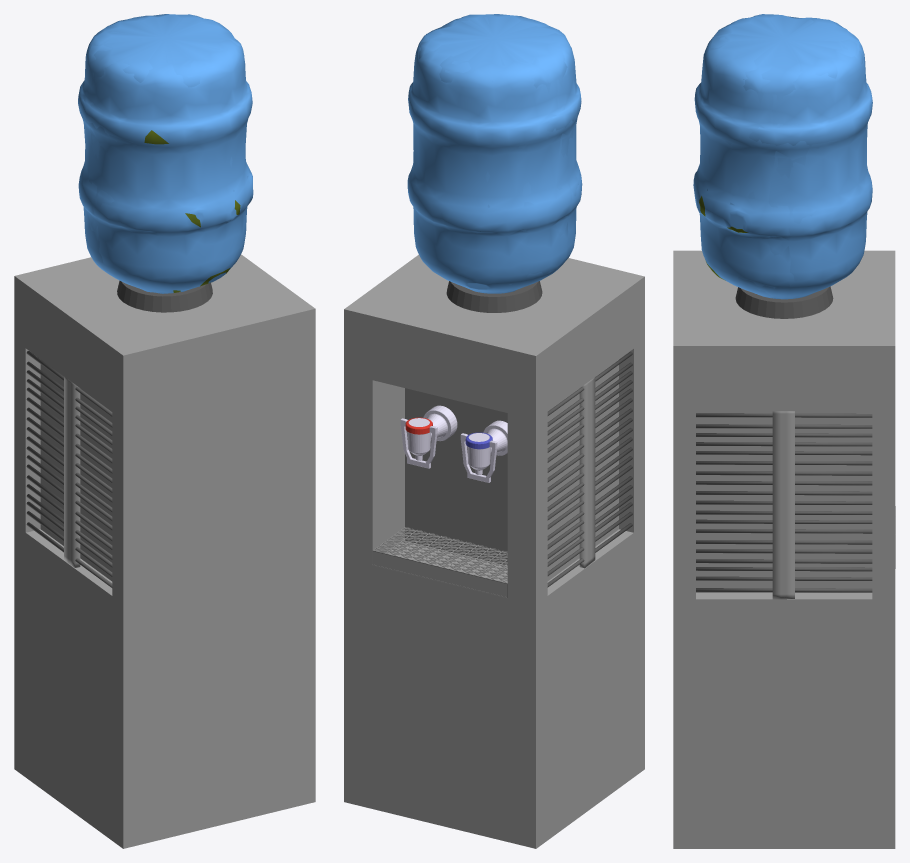
Rendered from Water Dispenser.fbx.
The picture shows the model from 3 angles, left to right: view 1: azimuth 30°, elevation 25°; view 2: azimuth 150°, elevation 25°; view 3: azimuth 270°, elevation 25°; orthographic projection. The views are drawn at different scales.
Parts seen in each view (by area): view 1: Main Body, Dirty Jar, Clean Jar, Circle; view 2: Main Body, Clean Jar, Dirty Jar, Water Grill, Hot Tap, Cold Tap, Circle; view 3: Main Body, Clean Jar, Dirty Jar, Circle.
Boxes of the visible parts, x1=… form: Main Body: x1=14, y1=254, x2=315, y2=848; Dirty Jar: x1=79, y1=14, x2=253, y2=293; Clean Jar: x1=78, y1=14, x2=249, y2=267; Circle: x1=117, y1=280, x2=212, y2=312; Main Body: x1=344, y1=254, x2=644, y2=848; Clean Jar: x1=407, y1=16, x2=578, y2=293; Dirty Jar: x1=411, y1=14, x2=582, y2=292; Water Grill: x1=372, y1=527, x2=507, y2=598; Hot Tap: x1=400, y1=405, x2=457, y2=468; Cold Tap: x1=460, y1=420, x2=507, y2=482; Circle: x1=446, y1=281, x2=542, y2=312; Main Body: x1=673, y1=250, x2=895, y2=848; Clean Jar: x1=699, y1=14, x2=872, y2=299; Dirty Jar: x1=693, y1=14, x2=867, y2=298; Circle: x1=735, y1=286, x2=833, y2=318.
Size of the model in its own units: 408 by 1516 by 400.
